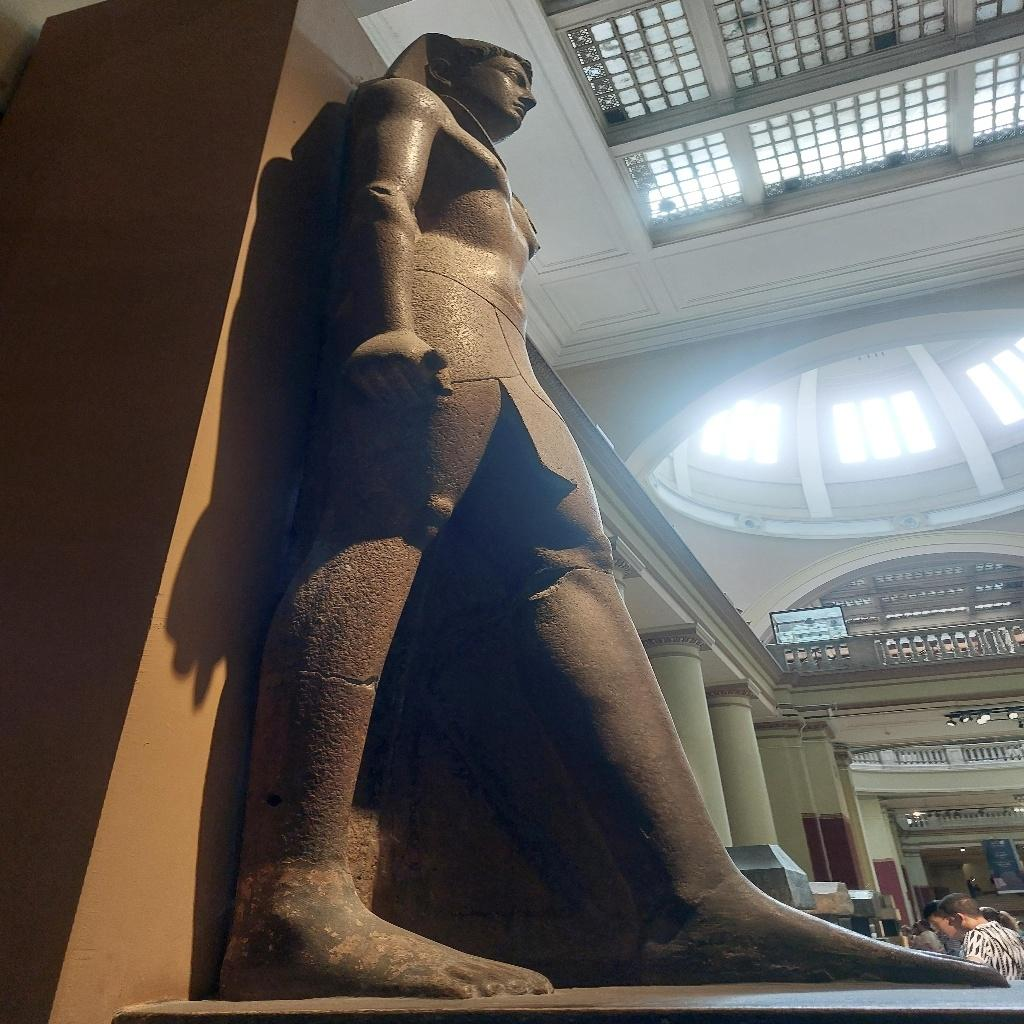Augustus: (214, 31, 1010, 1001)
